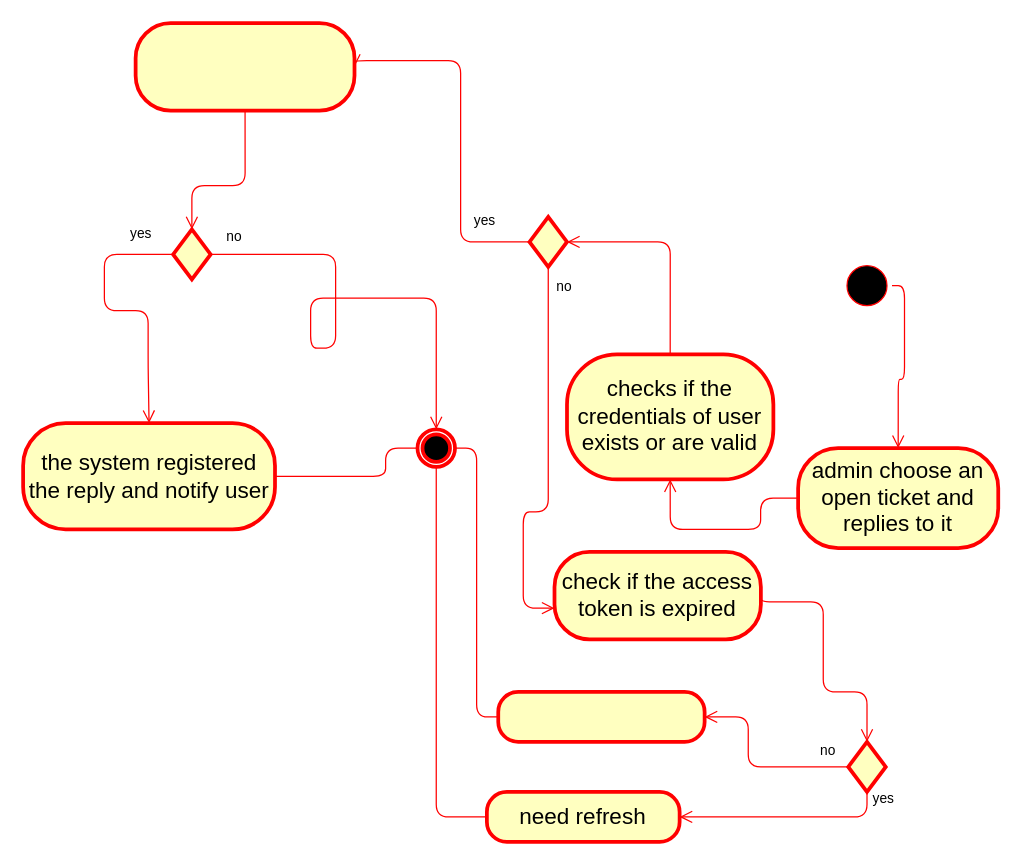
Some shapes in this 1023 by 865 pixel diagram are drawn without their labels. Each missing label, with the centre of its shape:
"checks if the user is a valid admin" goes at (x=244, y=66).
"error message" goes at (x=601, y=716).
